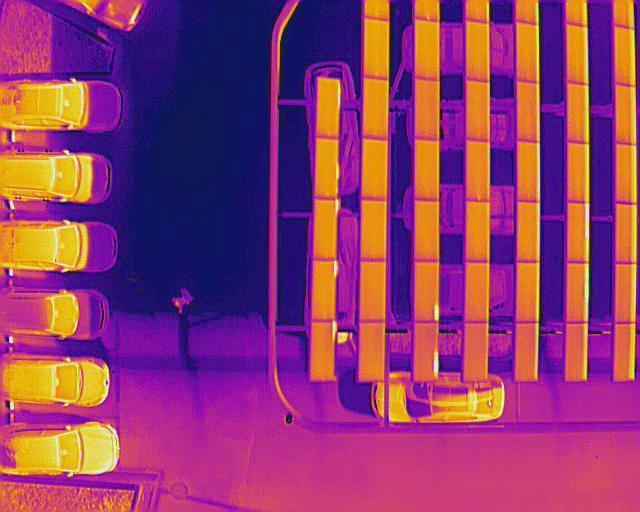No-Anomaly: (363, 17, 389, 79), (415, 17, 440, 81), (415, 76, 440, 140), (363, 76, 388, 140), (363, 138, 388, 201), (414, 139, 439, 201), (362, 200, 387, 262), (414, 199, 439, 261), (361, 260, 386, 322), (465, 79, 490, 140), (360, 321, 385, 381), (465, 261, 489, 323), (466, 140, 490, 201), (466, 20, 490, 81), (516, 82, 540, 143), (466, 200, 490, 260), (517, 200, 540, 262), (516, 141, 539, 202), (516, 21, 539, 82), (566, 82, 589, 143), (615, 143, 637, 204), (614, 25, 636, 86), (516, 262, 538, 322), (566, 23, 588, 83), (465, 322, 487, 381), (615, 203, 636, 264), (516, 323, 538, 381), (568, 142, 589, 202), (615, 85, 636, 145), (615, 264, 636, 322), (615, 322, 635, 382), (566, 323, 587, 380)
Unclassified: (313, 259, 337, 322), (314, 198, 338, 259), (415, 261, 439, 322), (315, 138, 339, 199), (312, 321, 336, 381), (317, 78, 341, 138), (566, 200, 589, 262), (414, 323, 438, 380), (567, 262, 589, 323)
